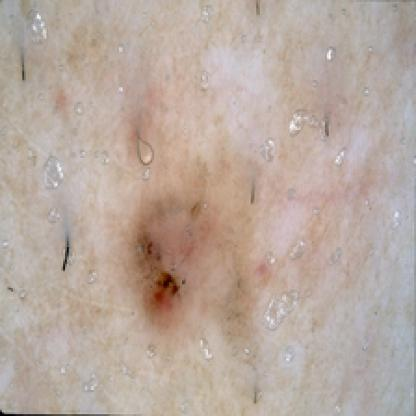malignant: (108, 134, 276, 342)
